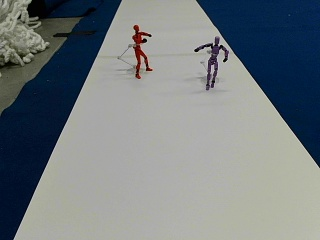pedestrian: (194, 37, 229, 88), (131, 24, 152, 78)
